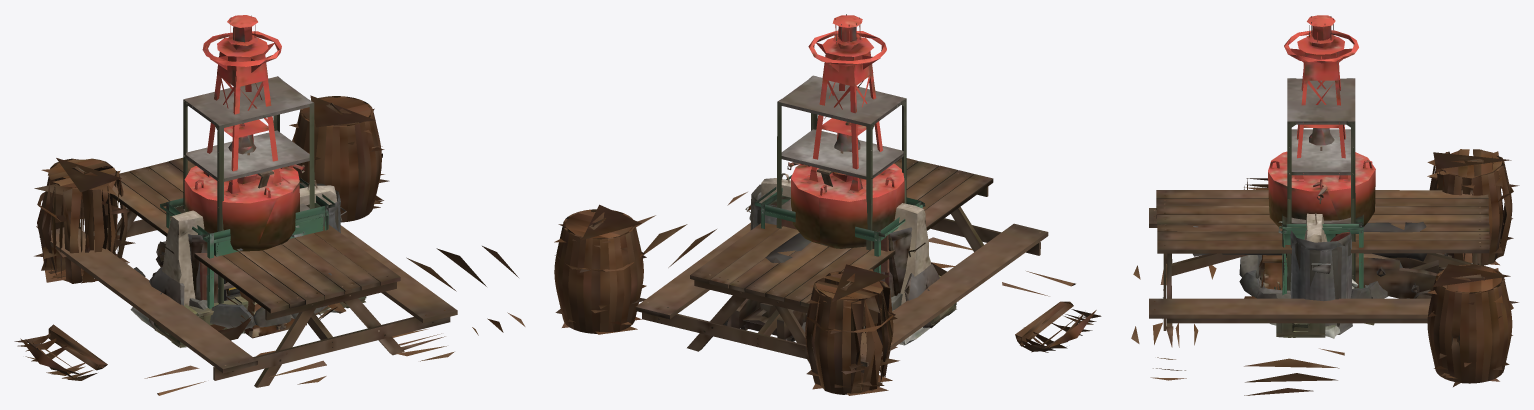
Rendered from props.glb.
3 views of the same model, side by side, from view 1: azimuth 30°, elevation 25°; view 2: azimuth 150°, elevation 25°; view 3: azimuth 270°, elevation 25° (orthographic). The views are drawn at different scales.
Parts seen in each view (by area): view 1: d_table__Body, d_barrels__Body, d_buoy__Body, d_rack__Body, d_barrier__Body, d_toolcart__Body, d_trashcan__Body, d_firepit__Body, d_mil_crate__Body, d_crate2__Body; view 2: d_table__Body, d_barrels__Body, d_buoy__Body, d_rack__Body, d_trashcan__Body, d_barrier__Body, d_cannon__Body, d_toolcart__Body; view 3: d_table__Body, d_barrels__Body, d_buoy__Body, d_rack__Body, d_trashcan__Body, d_cannon__Body, d_firepit__Body, d_toolcart__Body, d_mil_crate__Body, d_crate2__Body, d_barrier__Body.
Boxes of the visible parts, x1,y1,x2,y2 form: d_table__Body: [39, 157, 457, 387]; d_barrels__Body: [14, 95, 525, 395]; d_buoy__Body: [184, 15, 304, 251]; d_rack__Body: [183, 76, 314, 303]; d_barrier__Body: [162, 180, 337, 305]; d_toolcart__Body: [160, 177, 335, 308]; d_trashcan__Body: [149, 182, 346, 330]; d_firepit__Body: [189, 298, 327, 329]; d_mil_crate__Body: [154, 296, 366, 347]; d_crate2__Body: [240, 291, 306, 338]; d_table__Body: [635, 158, 1048, 372]; d_barrels__Body: [554, 192, 1101, 395]; d_buoy__Body: [787, 14, 904, 248]; d_rack__Body: [776, 75, 906, 250]; d_trashcan__Body: [745, 184, 939, 328]; d_barrier__Body: [759, 173, 930, 304]; d_cannon__Body: [723, 232, 864, 341]; d_toolcart__Body: [754, 175, 925, 273]; d_table__Body: [1149, 190, 1489, 330]; d_barrels__Body: [1131, 149, 1519, 395]; d_buoy__Body: [1268, 15, 1375, 235]; d_rack__Body: [1287, 78, 1355, 290]; d_trashcan__Body: [1290, 230, 1352, 334]; d_cannon__Body: [1193, 222, 1451, 298]; d_firepit__Body: [1239, 255, 1402, 298]; d_toolcart__Body: [1278, 214, 1363, 295]; d_mil_crate__Body: [1274, 281, 1374, 337]; d_crate2__Body: [1259, 255, 1286, 289]; d_barrier__Body: [1304, 213, 1327, 242].
Size of the model in its own units: 4.37 by 2.66 by 3.4.
1 material, 1 textured.
